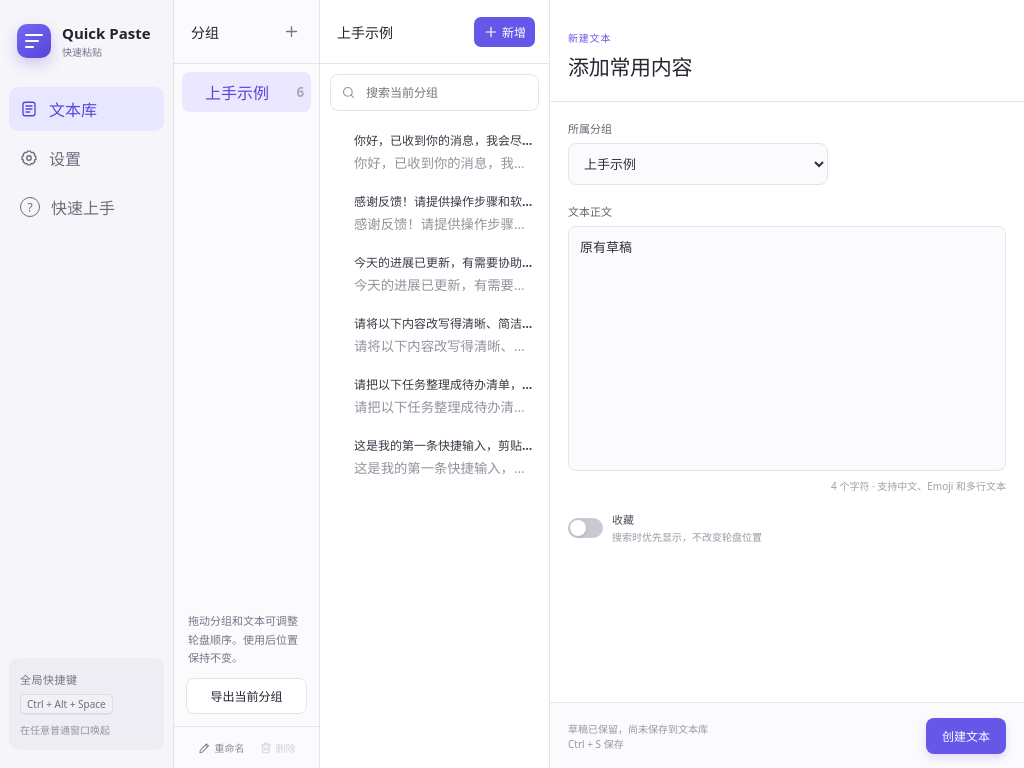
Test: 文本管理数据保护 › 本地草稿写入失败时保留编辑内容和旧草稿，恢复存储后可继续保留
Replace the text in the text box with placeholder "输入需要快速粘贴的纯文本…" with "尚未落盘的新草稿" at {"x": 787, "y": 348}, box [568,226,1006,471]
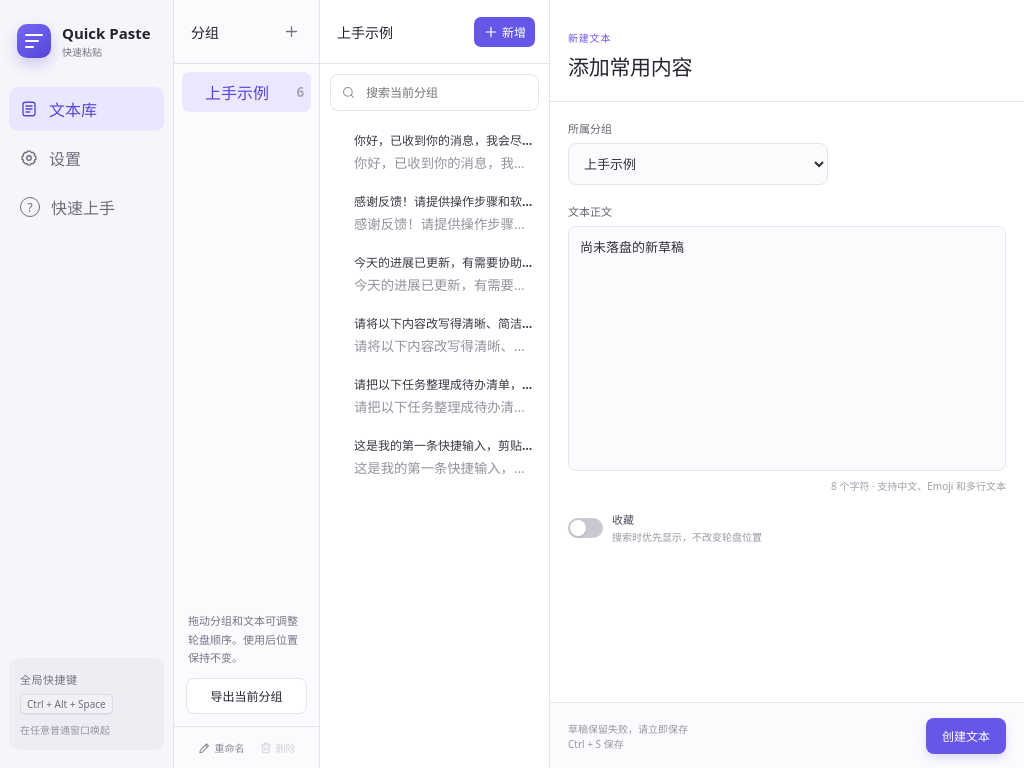
Expected: the message shows "草稿保留失败，请立即保存", [568,722,688,736]
Press s in the text box with placeholder "输入需要快速粘贴的纯文本…", box [568,226,1006,471]
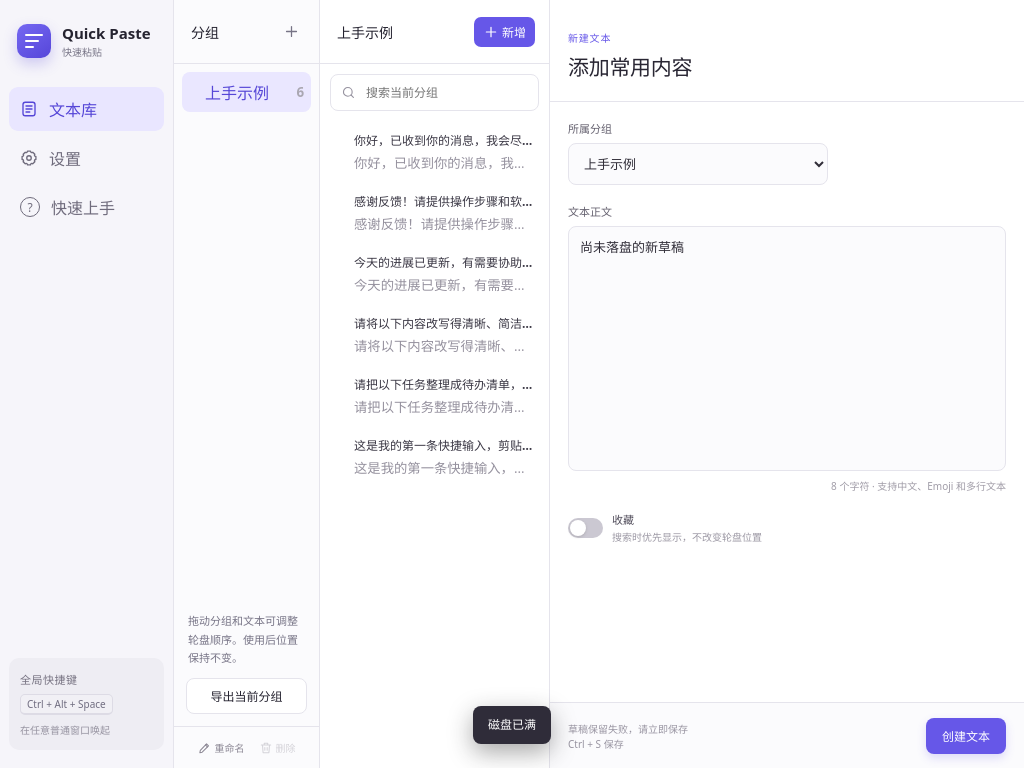
Expected: the text "磁盘已满" is shown, [473,706,551,744]
Replace the text in the text box with placeholder "输入需要快速粘贴的纯文本…" with "存储恢复后的草稿" at {"x": 787, "y": 348}, box [568,226,1006,471]
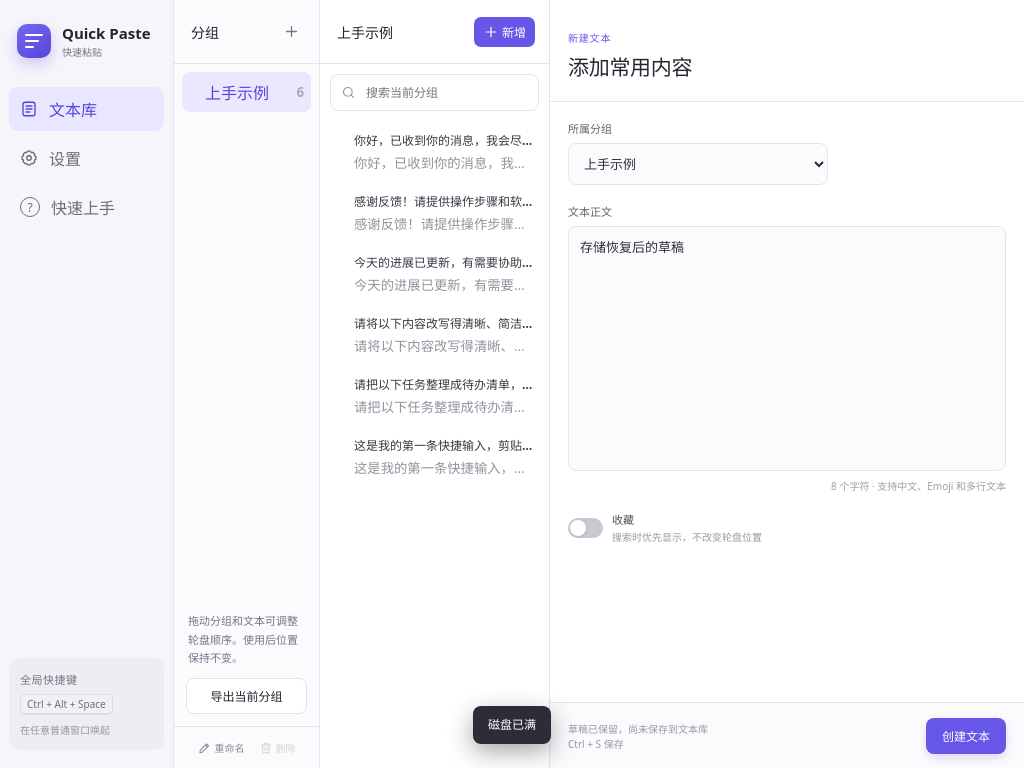
Expected: the 2nd message shows "草稿已保留，尚未保存到文本库", [568,722,708,736]
